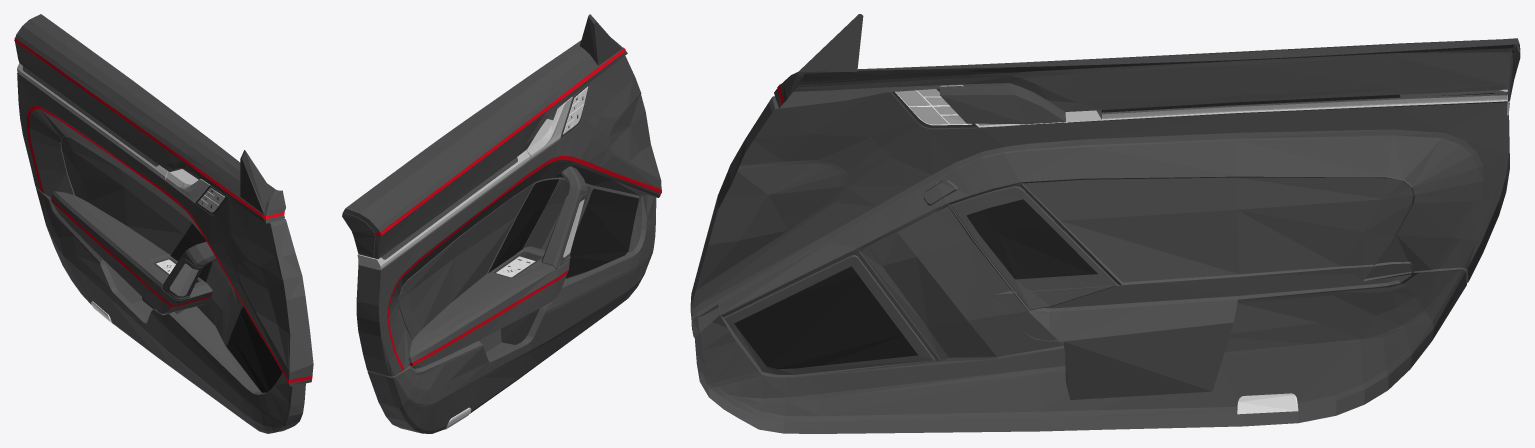
File: doorpanel_L_antichrome.glb
3 views of the same model, side by side, from view 1: azimuth 30°, elevation 25°; view 2: azimuth 150°, elevation 25°; view 3: azimuth 270°, elevation 25° (orthographic). The views are drawn at different scales.
Parts seen in each view (by area): view 1: TwiXeR_992_doorpanel_L_antichrome_TwiXeR_992_seat_leather.00, TwiXeR_992_doorpanel_L_antichrome_TwiXeR_992_upper_leather.0, TwiXeR_992_doorpanel_L_antichrome_TwiXeR_992_speakers.002_0, TwiXeR_992_doorpanel_L_antichrome_TwiXeR_992_ID03_stitch_001, TwiXeR_992_doorpanel_L_antichrome_TwiXeR_992_ID05_leather_co (×2), TwiXeR_992_doorpanel_L_antichrome_TwiXeR_992_plastic_mgl_060, TwiXeR_992_doorpanel_L_antichrome_TwiXeR_992_ID09_rubbertrim, TwiXeR_992_doorpanel_L_antichrome_TwiXeR_992_ID04_plastic_te; view 2: TwiXeR_992_doorpanel_L_antichrome_TwiXeR_992_seat_leather.00, TwiXeR_992_doorpanel_L_antichrome_TwiXeR_992_upper_leather.0, TwiXeR_992_doorpanel_L_antichrome_TwiXeR_992_speakers.002_0, TwiXeR_992_doorpanel_L_antichrome_TwiXeR_992_ID03_stitch_001, TwiXeR_992_doorpanel_L_antichrome_TwiXeR_992_ID05_leather_co (×2), TwiXeR_992_doorpanel_L_antichrome_TwiXeR_992_plastic_mgl_060, TwiXeR_992_doorpanel_L_antichrome_TwiXeR_992_ID09_rubbertrim, TwiXeR_992_doorpanel_L_antichrome_TwiXeR_992_ID04_plastic_te; view 3: TwiXeR_992_doorpanel_L_antichrome_TwiXeR_992_seat_leather.00, TwiXeR_992_doorpanel_L_antichrome_TwiXeR_992_upper_leather.0, TwiXeR_992_doorpanel_L_antichrome_TwiXeR_992_speakers.002_0, TwiXeR_992_doorpanel_L_antichrome_TwiXeR_992_ID05_leather_co, TwiXeR_992_doorpanel_L_antichrome_TwiXeR_992_plastic_mgl_060, TwiXeR_992_doorpanel_L_antichrome_TwiXeR_992_ID09_rubbertrim, TwiXeR_992_doorpanel_L_antichrome_TwiXeR_992_ID08_fabric_002.
Part boxes in pixels (x1=…): TwiXeR_992_doorpanel_L_antichrome_TwiXeR_992_seat_leather.00: x1=17, y1=72, x2=313, y2=433; TwiXeR_992_doorpanel_L_antichrome_TwiXeR_992_upper_leather.0: x1=15, y1=14, x2=285, y2=223; TwiXeR_992_doorpanel_L_antichrome_TwiXeR_992_speakers.002_0: x1=171, y1=224, x2=282, y2=392; TwiXeR_992_doorpanel_L_antichrome_TwiXeR_992_ID03_stitch_001: x1=14, y1=38, x2=312, y2=383; TwiXeR_992_doorpanel_L_antichrome_TwiXeR_992_ID05_leather_co (×2): x1=17, y1=63, x2=209, y2=296; TwiXeR_992_doorpanel_L_antichrome_TwiXeR_992_plastic_mgl_060: x1=240, y1=150, x2=273, y2=214; TwiXeR_992_doorpanel_L_antichrome_TwiXeR_992_ID09_rubbertrim: x1=156, y1=187, x2=224, y2=273; TwiXeR_992_doorpanel_L_antichrome_TwiXeR_992_ID04_plastic_te: x1=154, y1=185, x2=227, y2=283; TwiXeR_992_doorpanel_L_antichrome_TwiXeR_992_seat_leather.00: x1=356, y1=56, x2=661, y2=433; TwiXeR_992_doorpanel_L_antichrome_TwiXeR_992_upper_leather.0: x1=342, y1=38, x2=627, y2=259; TwiXeR_992_doorpanel_L_antichrome_TwiXeR_992_speakers.002_0: x1=488, y1=179, x2=638, y2=277; TwiXeR_992_doorpanel_L_antichrome_TwiXeR_992_ID03_stitch_001: x1=375, y1=47, x2=661, y2=370; TwiXeR_992_doorpanel_L_antichrome_TwiXeR_992_ID05_leather_co (×2): x1=357, y1=97, x2=584, y2=269; TwiXeR_992_doorpanel_L_antichrome_TwiXeR_992_plastic_mgl_060: x1=580, y1=14, x2=621, y2=65; TwiXeR_992_doorpanel_L_antichrome_TwiXeR_992_ID09_rubbertrim: x1=496, y1=86, x2=588, y2=277; TwiXeR_992_doorpanel_L_antichrome_TwiXeR_992_ID04_plastic_te: x1=493, y1=83, x2=589, y2=277; TwiXeR_992_doorpanel_L_antichrome_TwiXeR_992_seat_leather.00: x1=690, y1=88, x2=1509, y2=433; TwiXeR_992_doorpanel_L_antichrome_TwiXeR_992_upper_leather.0: x1=774, y1=38, x2=1520, y2=124; TwiXeR_992_doorpanel_L_antichrome_TwiXeR_992_speakers.002_0: x1=734, y1=199, x2=1097, y2=369; TwiXeR_992_doorpanel_L_antichrome_TwiXeR_992_ID05_leather_co: x1=939, y1=85, x2=1509, y2=127; TwiXeR_992_doorpanel_L_antichrome_TwiXeR_992_plastic_mgl_060: x1=799, y1=14, x2=863, y2=83; TwiXeR_992_doorpanel_L_antichrome_TwiXeR_992_ID09_rubbertrim: x1=895, y1=89, x2=971, y2=125; TwiXeR_992_doorpanel_L_antichrome_TwiXeR_992_ID08_fabric_002: x1=1237, y1=393, x2=1298, y2=414.
Bounding box in the file's own units: 0.1105 × 0.5778 × 1.05.
